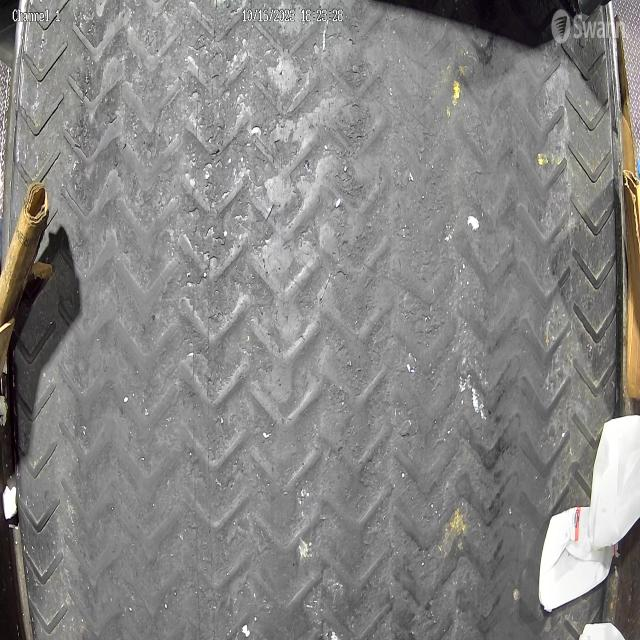milk_jug: (538, 506, 618, 614), (589, 414, 640, 550)
